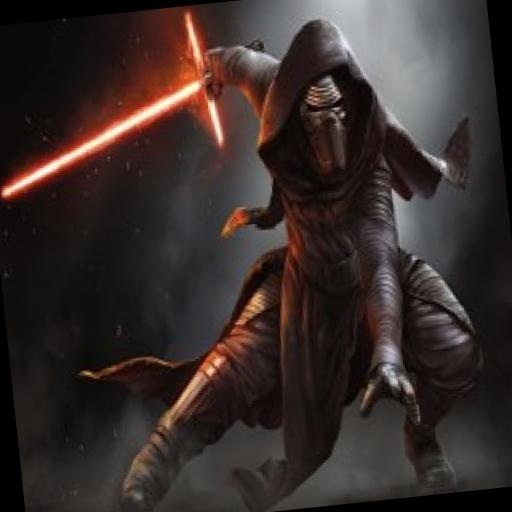human: (67, 6, 498, 512)
sith saber: (0, 4, 279, 205)
